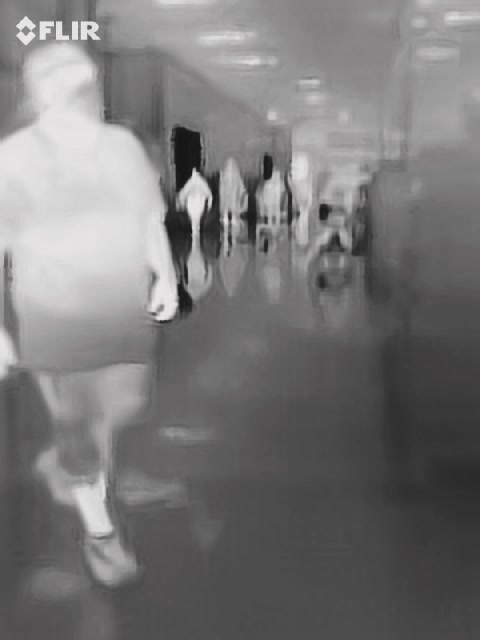head: (21, 41, 101, 132)
